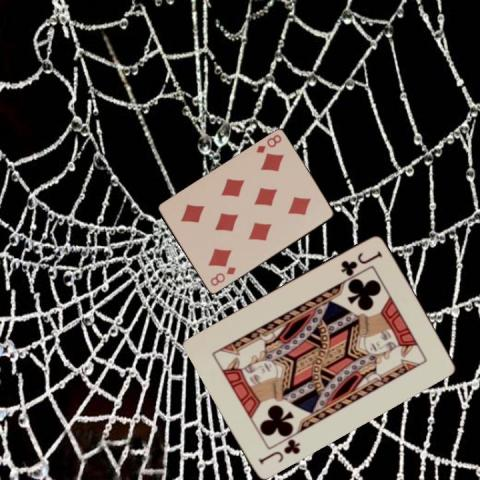8d: (208, 264, 238, 288), (253, 131, 283, 155)
Jc: (256, 436, 302, 466), (338, 247, 383, 276)
